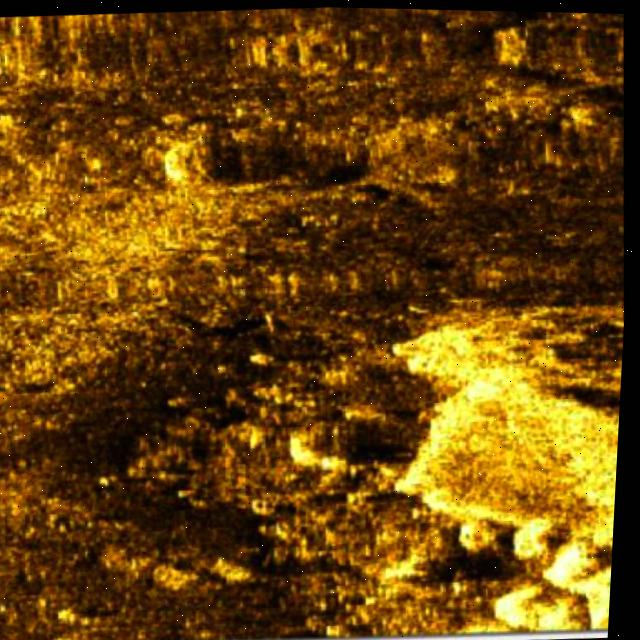bedrock group: (218, 317, 627, 640)
